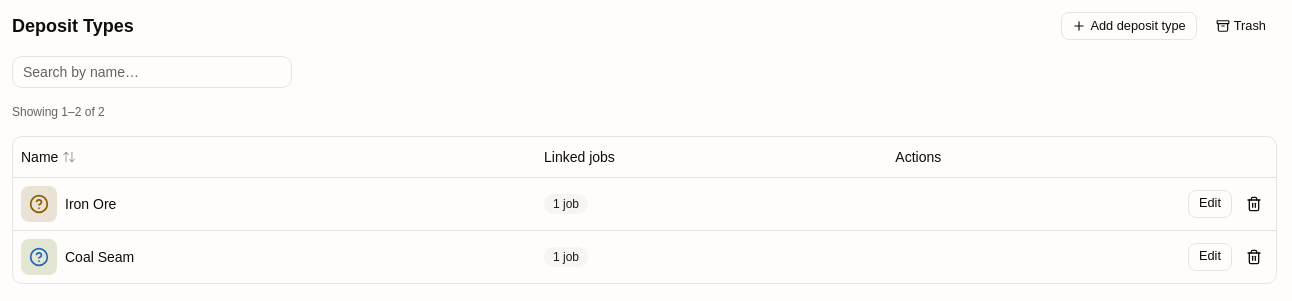
it: DepositsConfigPanel › narrows results via the search input
Expected: the text "Iron Ore" is shown, x1=65 y1=194 x2=116 y2=214
Expected: the text "Coal Seam" is shown, x1=65 y1=246 x2=134 y2=266
In the field named "Search deposit types by name": (152, 72) x1=12 y1=56 x2=292 y2=88, type "Iron"
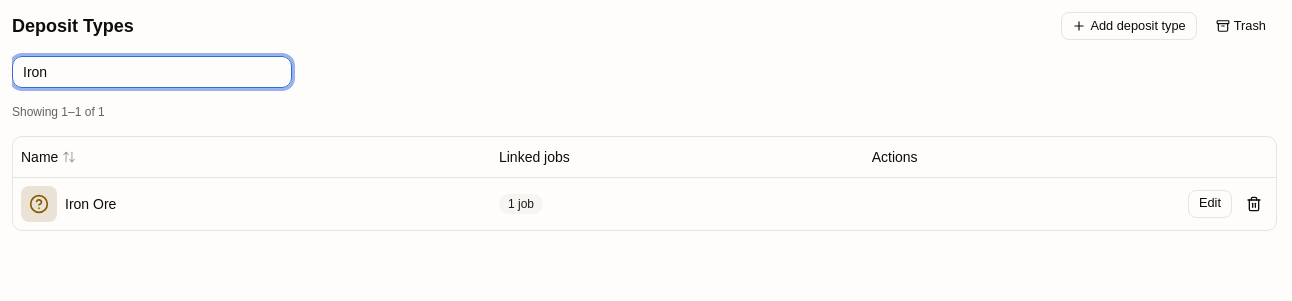
Expected: the text "Iron Ore" is shown, x1=65 y1=194 x2=116 y2=214
Expected: the text "Coal Seam" is gone
